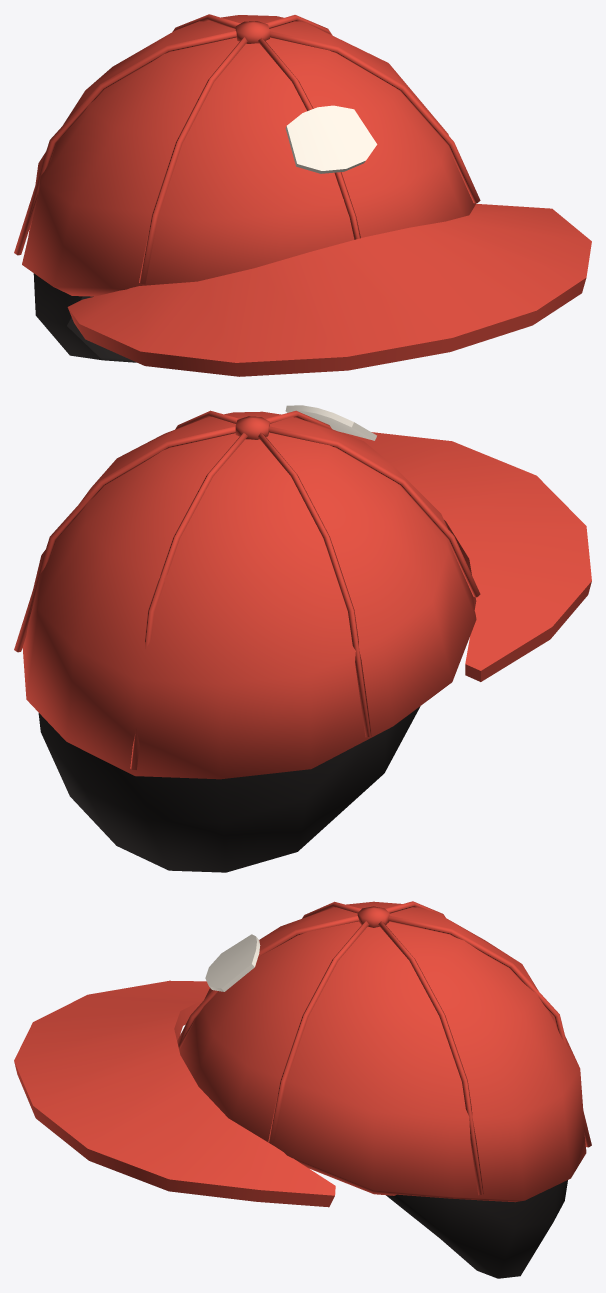
The model's file is hat_cap.glb.
3 views of the same model, one above another, from view 1: azimuth 30°, elevation 25°; view 2: azimuth 150°, elevation 25°; view 3: azimuth 270°, elevation 25° (orthographic). The views are drawn at different scales.
Parts seen in each view (by area): view 1: hat_cap; view 2: hat_cap; view 3: hat_cap.
Boxes of the visible parts, <box> form: hat_cap: <box>14,14,591,376</box>; hat_cap: <box>14,405,591,872</box>; hat_cap: <box>14,901,591,1278</box>.
Bounding box in the file's own units: 0.375 × 0.2964 × 0.4405.
